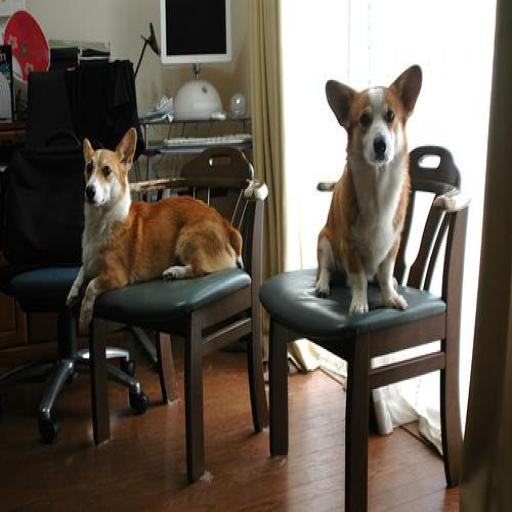dog_face: (321, 70, 425, 167), (79, 132, 142, 214)
